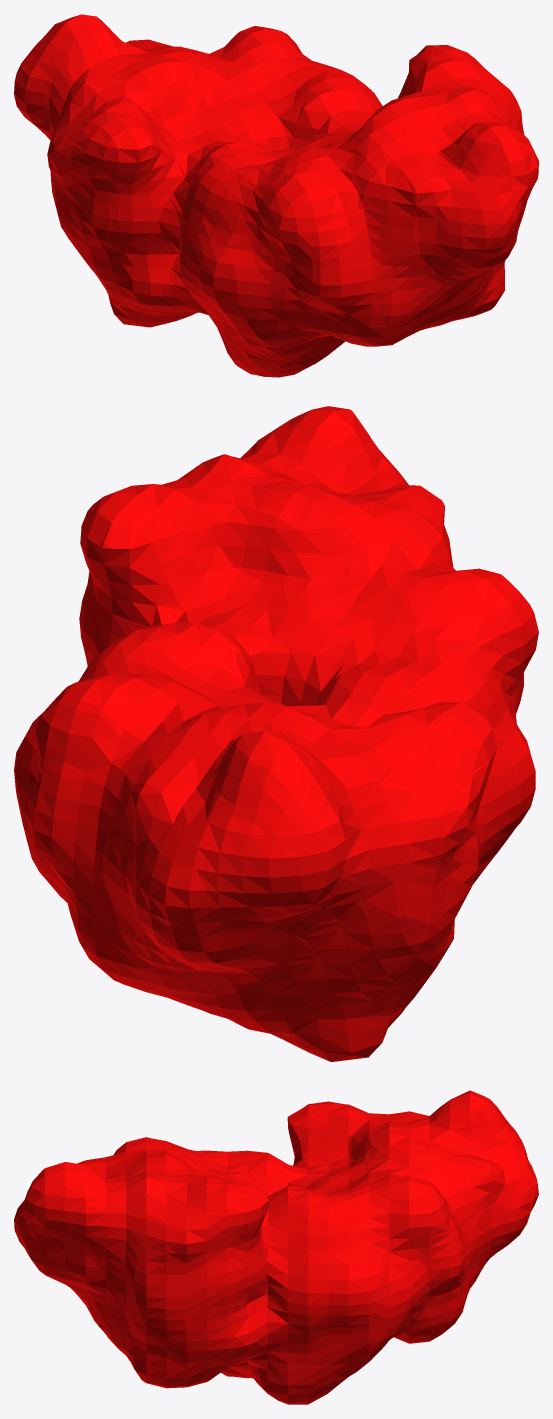
File: lptB_coarse.dae
3 renders of one model, top to bottom at view 1: azimuth 30°, elevation 25°; view 2: azimuth 150°, elevation 25°; view 3: azimuth 270°, elevation 25°, orthographic. The views are drawn at different scales.
Parts seen in each view (by area): view 1: lptB; view 2: lptB; view 3: lptB.
Boxes of the visible parts, box(x1,y1,x2,y2) form: lptB: box(14, 14, 538, 377); lptB: box(14, 406, 538, 1061); lptB: box(14, 1090, 538, 1404).
Bounding box in the file's own units: 61.58 × 47.9 × 87.86.
